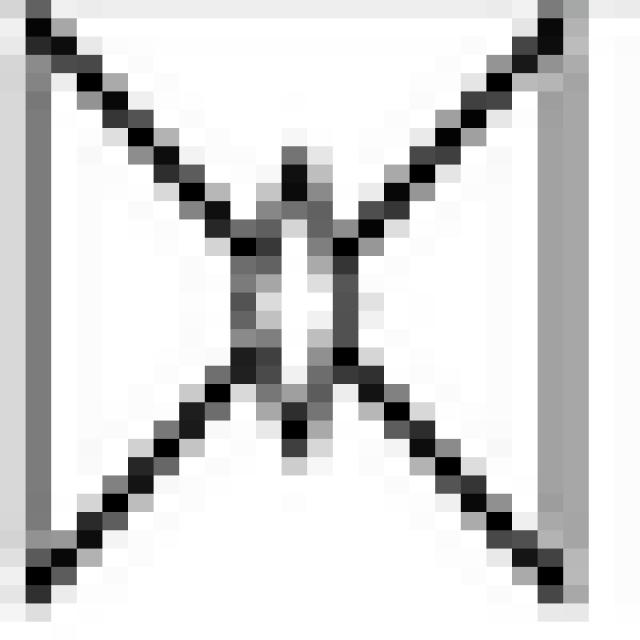Plug Valve: (33, 0, 573, 606)
